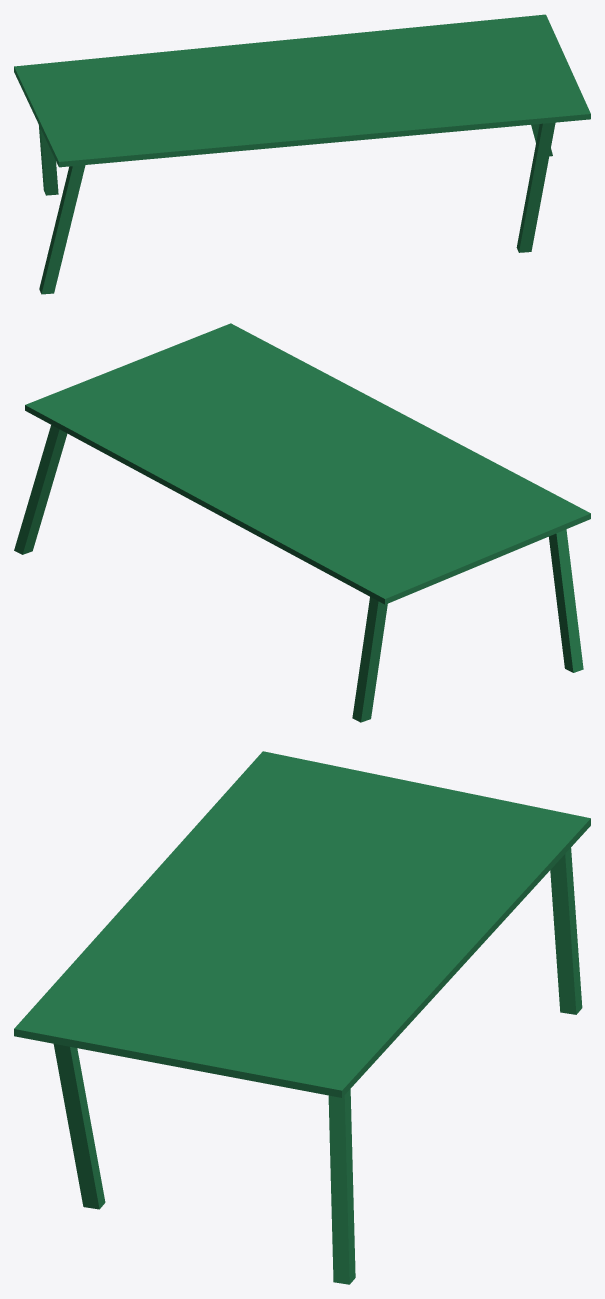
Rendered from Table Low.FBX.
The picture shows the model from 3 angles, top to bottom: view 1: azimuth 30°, elevation 25°; view 2: azimuth 150°, elevation 25°; view 3: azimuth 270°, elevation 25°; orthographic projection. The views are drawn at different scales.
Parts seen in each view (by area): view 1: Box103; view 2: Box103; view 3: Box103.
Part boxes in pixels (x1,y1,x2,y2): Box103: [14, 14, 590, 294]; Box103: [14, 323, 590, 722]; Box103: [14, 751, 590, 1284].
Size of the model in its own units: 239 by 64.04 by 167.
